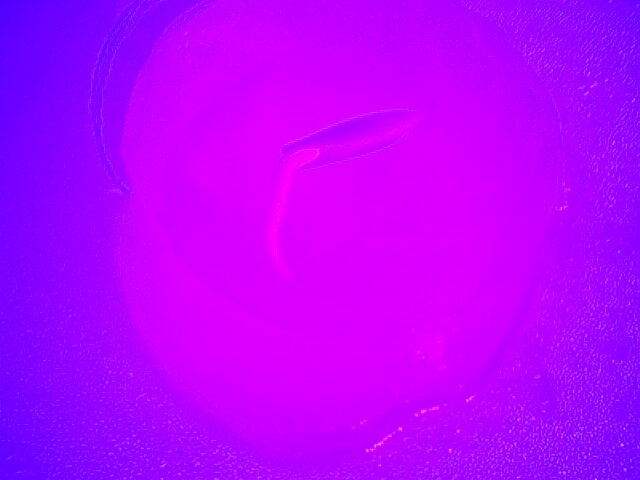sprout: (220, 96, 439, 303)
